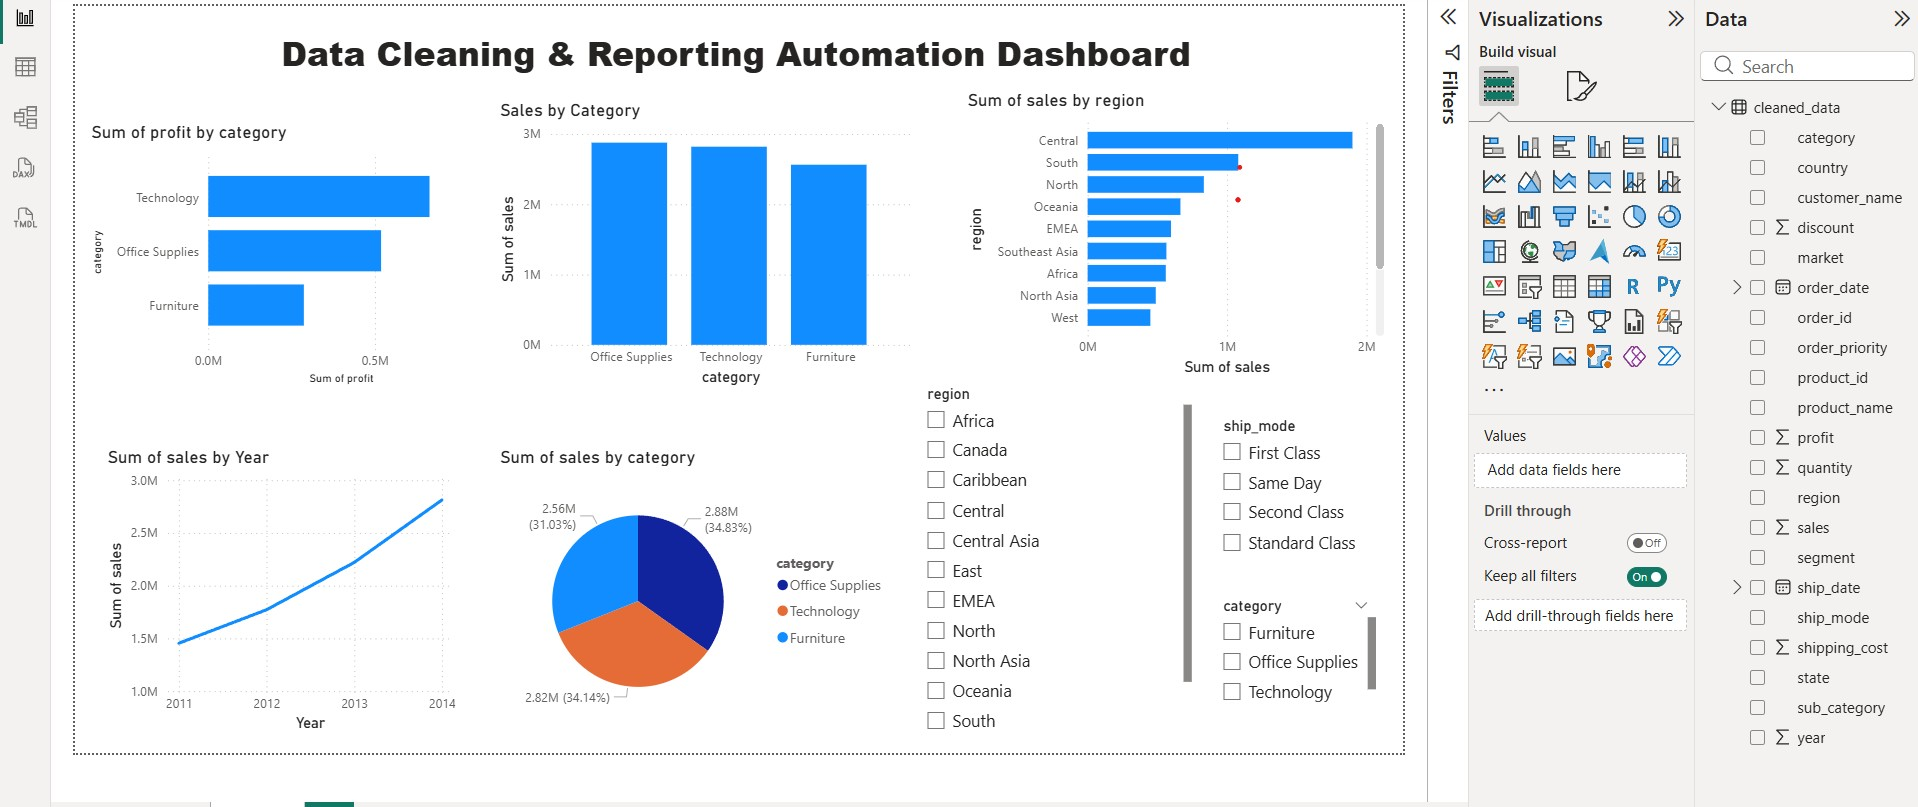

Layout of this report page (visuals, bound fields, positions):
{"tool":"powerbi","page":{"name":"Page 1","canvas":[1280,720],"ordinal":0},"visuals":[{"type":"clusteredColumnChart","title":"Sales by Category","fields":{"Category":["cleaned_data.category"],"Y":["Sum(cleaned_data.sales)"]},"box":[404.7,90.7,405.8,280.2],"z":2},{"type":"clusteredBarChart","fields":{"Category":["cleaned_data.category"],"Y":["Sum(cleaned_data.profit)"]},"box":[11,111.1,393.8,259.3],"z":4},{"type":"pieChart","fields":{"Category":["cleaned_data.category"],"Y":["Sum(cleaned_data.sales)"]},"box":[404.7,424.4,386,280.2],"z":5},{"type":"lineChart","fields":{"Category":["cleaned_data.order_date.Variation.Date Hierarchy.Year","cleaned_data.order_date.Variation.Date Hierarchy.Quarter","cleaned_data.order_date.Variation.Date Hierarchy.Month","cleaned_data.order_date.Variation.Date Hierarchy.Day"],"Y":["Sum(cleaned_data.sales)"]},"box":[26.7,424.4,345.3,280.2],"z":6},{"type":"barChart","fields":{"Category":["cleaned_data.region"],"Y":["Sum(cleaned_data.sales)"]},"box":[855.8,80.2,411.6,280.2],"z":7},{"type":"slicer","fields":{"Values":["cleaned_data.category"]},"box":[1094.2,565.1,165.1,110.5],"z":8},{"type":"slicer","fields":{"Values":["cleaned_data.ship_mode"]},"box":[1094.2,391.9,165.1,152.3],"z":9},{"type":"slicer","fields":{"Values":["cleaned_data.region"]},"box":[808.1,360.5,273.3,346.5],"z":10},{"type":"textbox","box":[183.7,18.6,912.8,61.6],"z":11}]}

Visuals, with their boxes on the page's 1280x720 design canvas (x1, y1, x2, y2). These are canvas units, not pixel positions in the 1918x807 screenshot, which may show the page scaled, cropped or inside an application window:
"Sales by Category" clusteredColumnChart: 405,91,810,371
clusteredBarChart - cleaned_data.category x Sum(cleaned_data.profit): 11,111,405,370
pieChart - cleaned_data.category x Sum(cleaned_data.sales): 405,424,791,705
lineChart - cleaned_data.order_date.Variation.Date Hierarchy.Year x cleaned_data.order_date.Variation.Date Hierarchy.Quarter: 27,424,372,705
barChart - cleaned_data.region x Sum(cleaned_data.sales): 856,80,1267,360
slicer - cleaned_data.category: 1094,565,1259,676
slicer - cleaned_data.ship_mode: 1094,392,1259,544
slicer - cleaned_data.region: 808,360,1081,707
textbox: 184,19,1096,80
